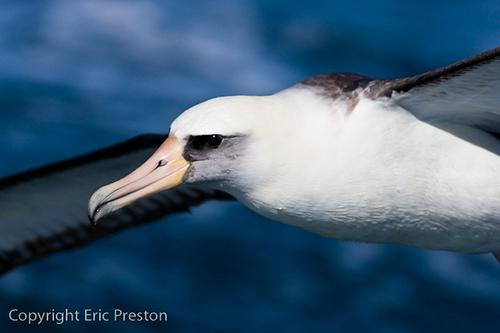002.Laysan_Albatross: (18, 49, 500, 280)
